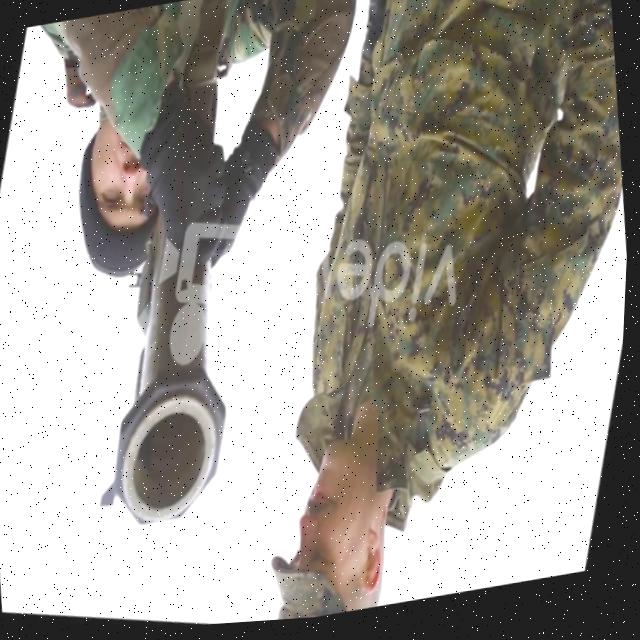rocket: (68, 197, 295, 549)
